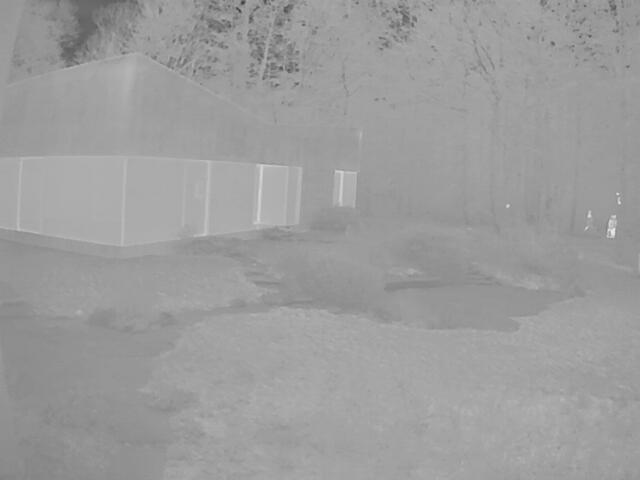person: (605, 212, 618, 238), (582, 209, 594, 230)
